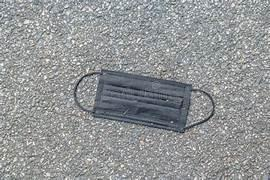Mask: (74, 70, 214, 131)
